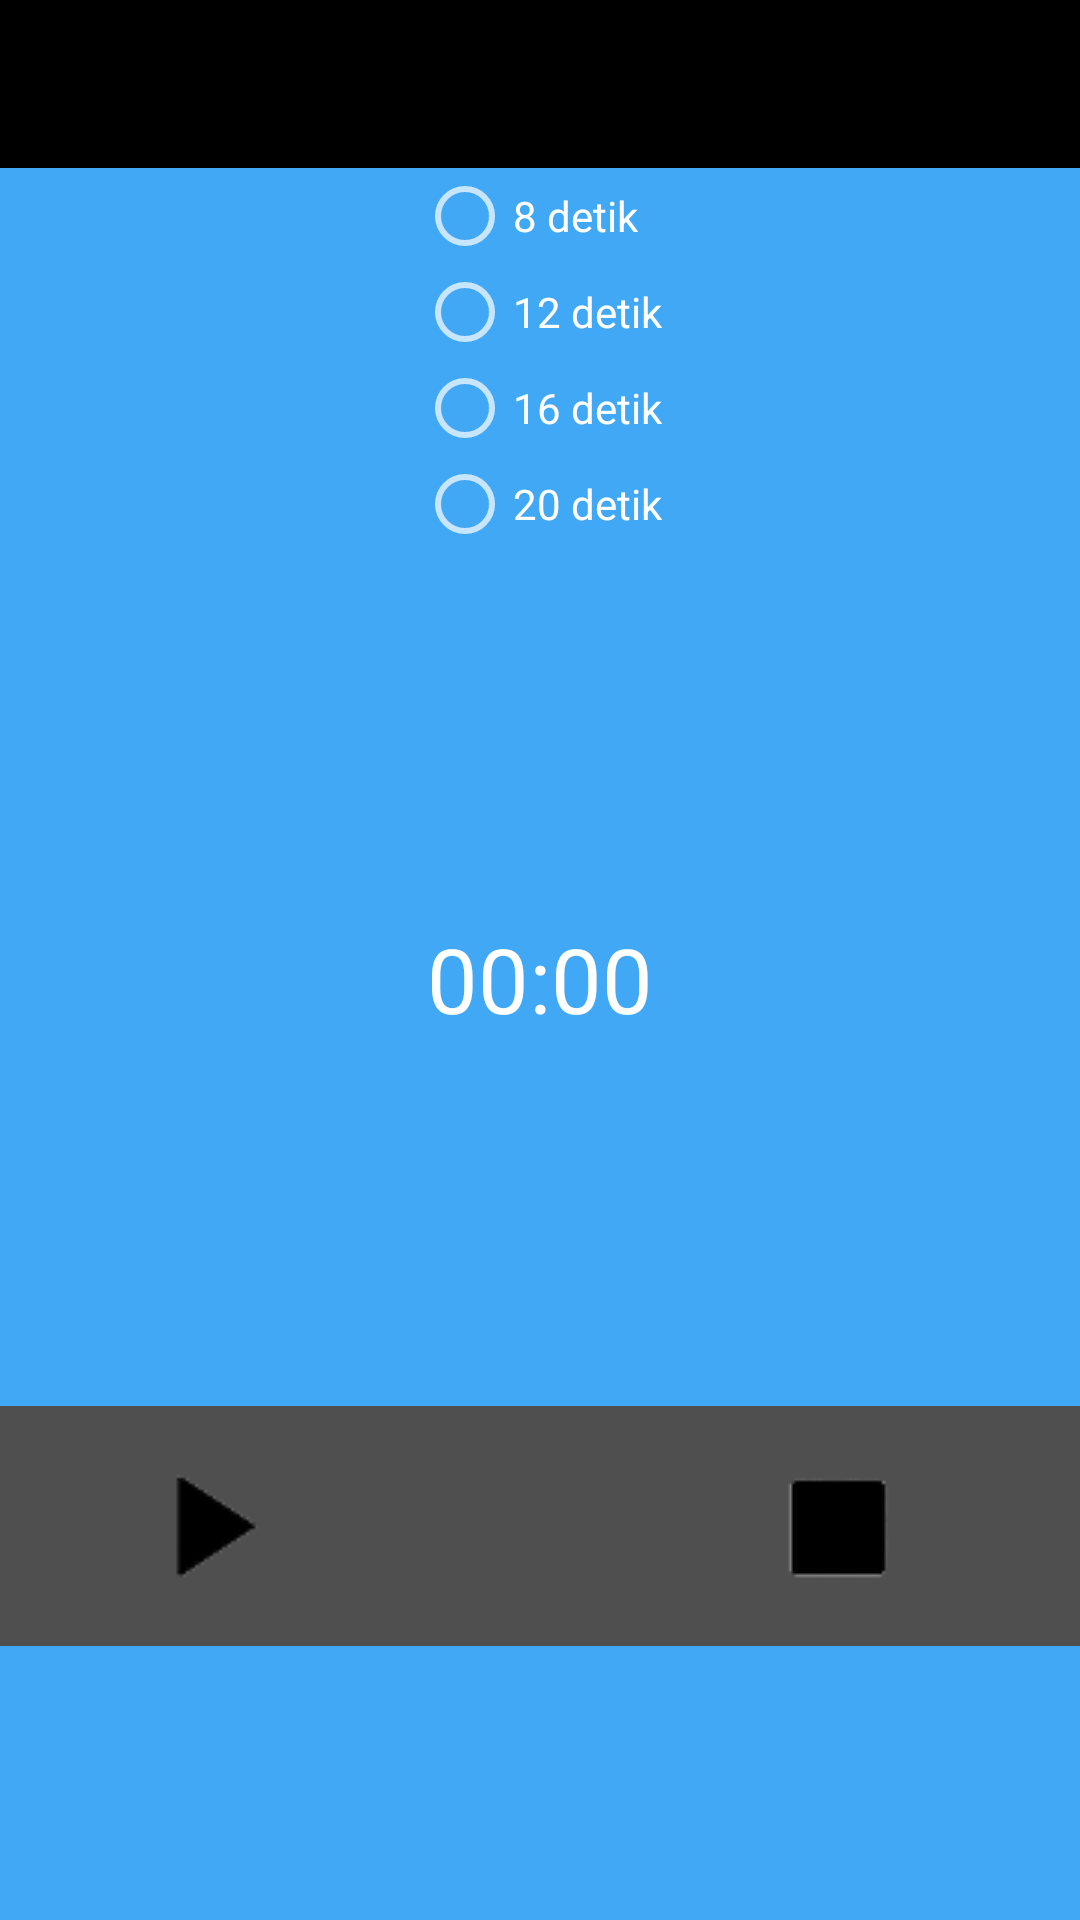

Where icons sit on this 1080w x 1920h app screen, as (x1, y1, x2, y2):
playbutton: (177, 1478, 255, 1575)
stopbutton: (789, 1480, 885, 1577)
